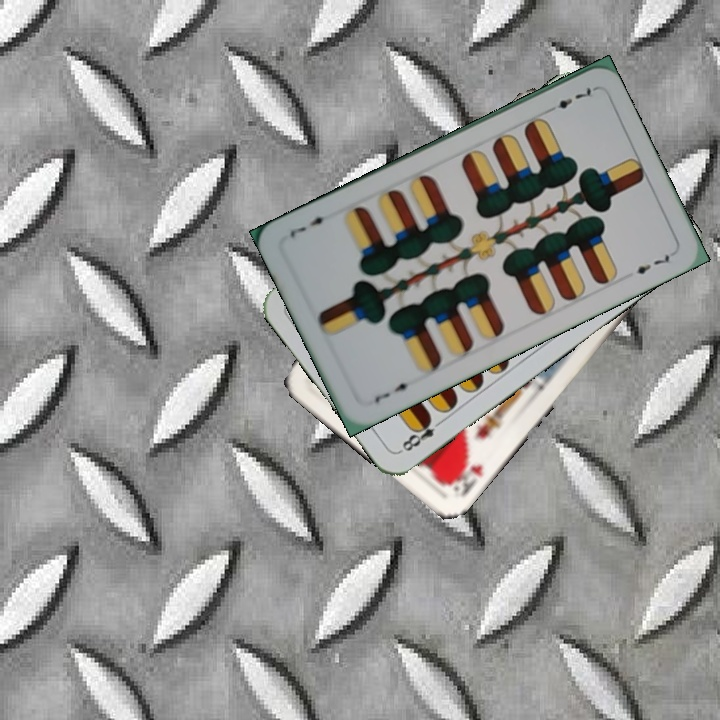E7: (541, 83, 597, 116), (370, 378, 417, 405)
E8: (396, 412, 447, 455)
HK: (444, 456, 486, 500)
